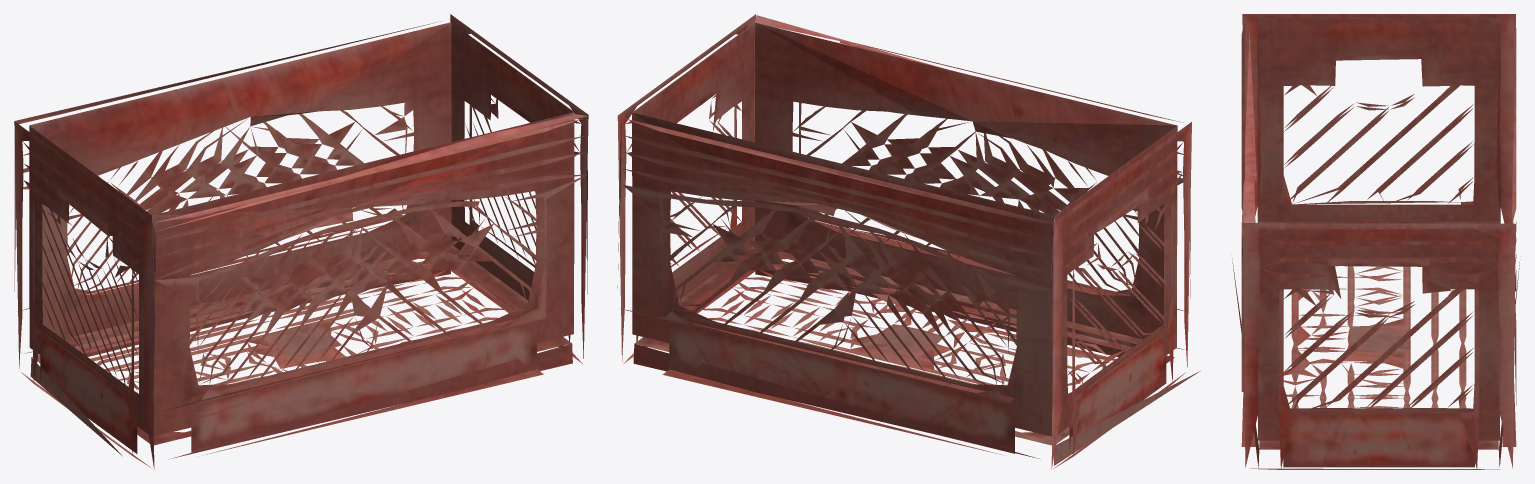
Rendered from plastic_crate_03.gltf.
The picture shows the model from 3 angles, left to right: view 1: azimuth 30°, elevation 25°; view 2: azimuth 150°, elevation 25°; view 3: azimuth 270°, elevation 25°; orthographic projection.
Parts seen in each view (by area): view 1: plastic_crate_03; view 2: plastic_crate_03; view 3: plastic_crate_03.
Boxes of the visible parts, x1=… form: plastic_crate_03: x1=14, y1=14, x2=588, y2=468; plastic_crate_03: x1=617, y1=14, x2=1200, y2=468; plastic_crate_03: x1=1232, y1=14, x2=1520, y2=469.
Bounding box in the file's own units: 0.5024 × 0.2659 × 0.2795.
Materials: 1 (1 with a texture image).
